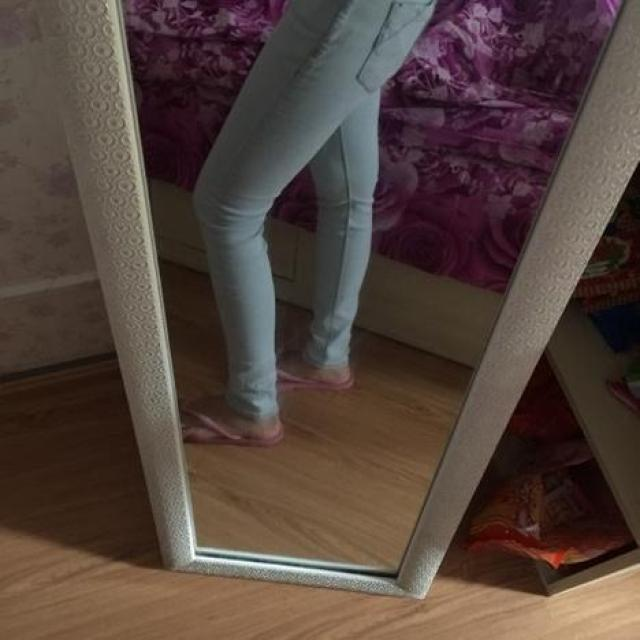trousers: (193, 0, 438, 418)
